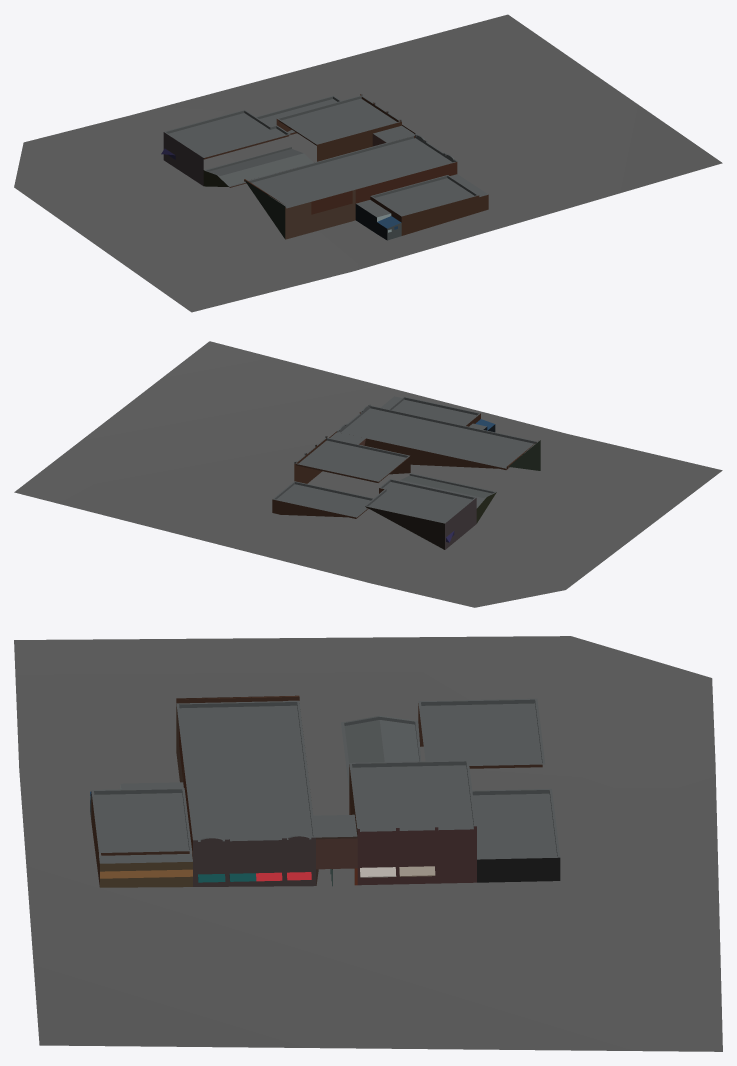
The model's file is 420-broad-street.glb.
3 views of the same model, one above another, from view 1: azimuth 30°, elevation 25°; view 2: azimuth 150°, elevation 25°; view 3: azimuth 270°, elevation 25° (orthographic). The views are drawn at different scales.
Visible parts, largest first — view 1: LOD0; view 2: LOD0; view 3: LOD0.
Part boxes in pixels (x1,y1,x2,y2): LOD0: (14,14,722,312); LOD0: (14,341,722,607); LOD0: (14,636,722,1051).
Size of what is drawn, in the model's own units: 186 by 12.28 by 130.
Materials: 2 (2 with a texture image).
